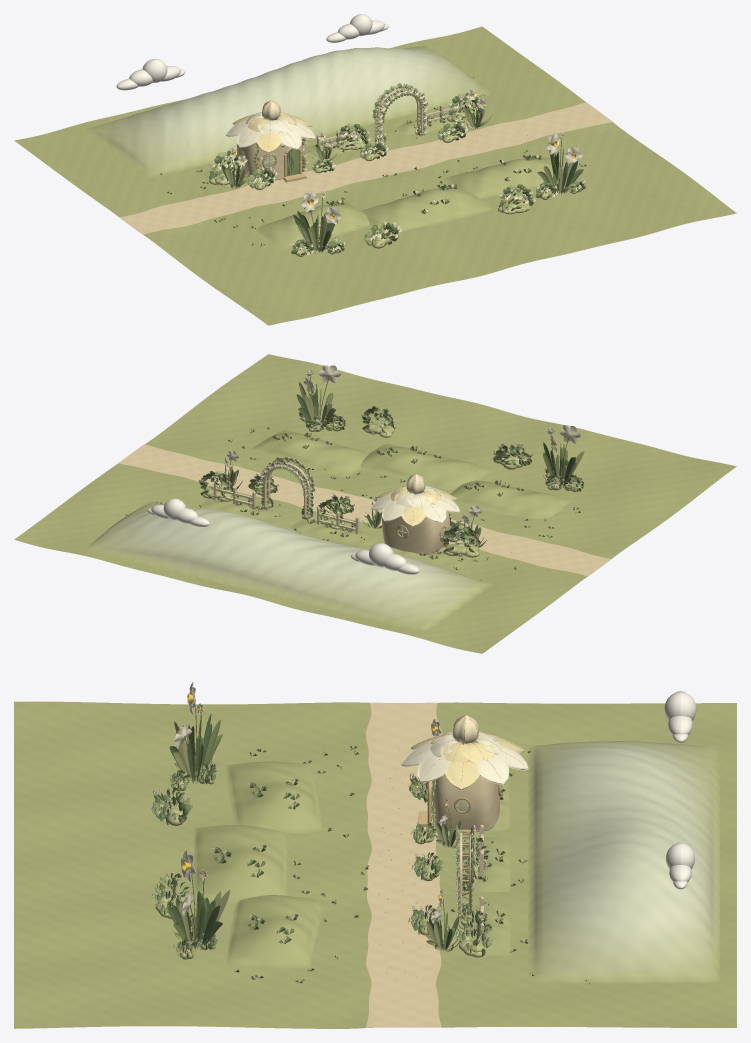
The model's file is garden3d_complete.glb.
The picture shows the model from 3 angles, top to bottom: view 1: azimuth 30°, elevation 25°; view 2: azimuth 150°, elevation 25°; view 3: azimuth 270°, elevation 25°; orthographic projection. The views are drawn at different scales.
Parts seen in each view (by area): view 1: Ground / undulating meadow, Terrain / volumetric rolling hills, Ground / sandy walking road, Terrain / rounded meadow mound (×4), Cloud / soft volume (×2), Roof / petal tier 1 (×2), House / thick shell with architectural openings, Roof / petal tier 2; view 2: Ground / undulating meadow, Terrain / volumetric rolling hills, Terrain / rounded meadow mound (×6), Ground / sandy walking road, Cloud / soft volume (×2), House / thick shell with architectural openings, Roof / petal tier 1 (×2), Arch / front and rear timber ribs, Roof / petal tier 2; view 3: Ground / undulating meadow, Terrain / volumetric rolling hills, Terrain / rounded meadow mound (×5), Ground / sandy walking road, Roof / petal tier 1 (×2), Plants / curved grass blades (×4), House / thick shell with architectural openings, Cloud / soft volume (×2), Roof / petal tier 2 (×2), Roof / six-lobed flower bud.
Part boxes in pixels (<box>): Ground / undulating meadow: <box>14,26,736,325</box>; Terrain / volumetric rolling hills: <box>82,45,493,178</box>; Ground / sandy walking road: <box>119,102,612,234</box>; Terrain / rounded meadow mound (×4): <box>257,112,559,250</box>; Cloud / soft volume (×2): <box>116,14,388,90</box>; Roof / petal tier 1 (×2): <box>226,114,315,153</box>; House / thick shell with architectural openings: <box>237,137,305,180</box>; Roof / petal tier 2: <box>246,112,294,133</box>; Ground / undulating meadow: <box>14,354,736,653</box>; Terrain / volumetric rolling hills: <box>82,500,493,633</box>; Terrain / rounded meadow mound (×6): <box>197,430,572,570</box>; Ground / sandy walking road: <box>118,444,611,576</box>; Cloud / soft volume (×2): <box>147,498,419,574</box>; House / thick shell with architectural openings: <box>382,511,449,554</box>; Roof / petal tier 1 (×2): <box>370,487,460,526</box>; Arch / front and rear timber ribs: <box>264,462,310,516</box>; Roof / petal tier 2: <box>394,485,440,507</box>; Ground / undulating meadow: <box>14,701,736,1028</box>; Terrain / volumetric rolling hills: <box>528,741,719,983</box>; Terrain / rounded meadow mound (×5): <box>192,761,510,968</box>; Ground / sandy walking road: <box>366,702,441,1027</box>; Roof / petal tier 1 (×2): <box>401,734,528,790</box>; Plants / curved grass blades (×4): <box>169,714,230,950</box>; House / thick shell with architectural openings: <box>432,775,499,831</box>; Cloud / soft volume (×2): <box>664,691,696,889</box>; Roof / petal tier 2 (×2): <box>429,731,501,762</box>; Roof / six-lobed flower bud: <box>452,715,478,743</box>.
Size of the model in its own units: 68 by 9.97 by 64.
